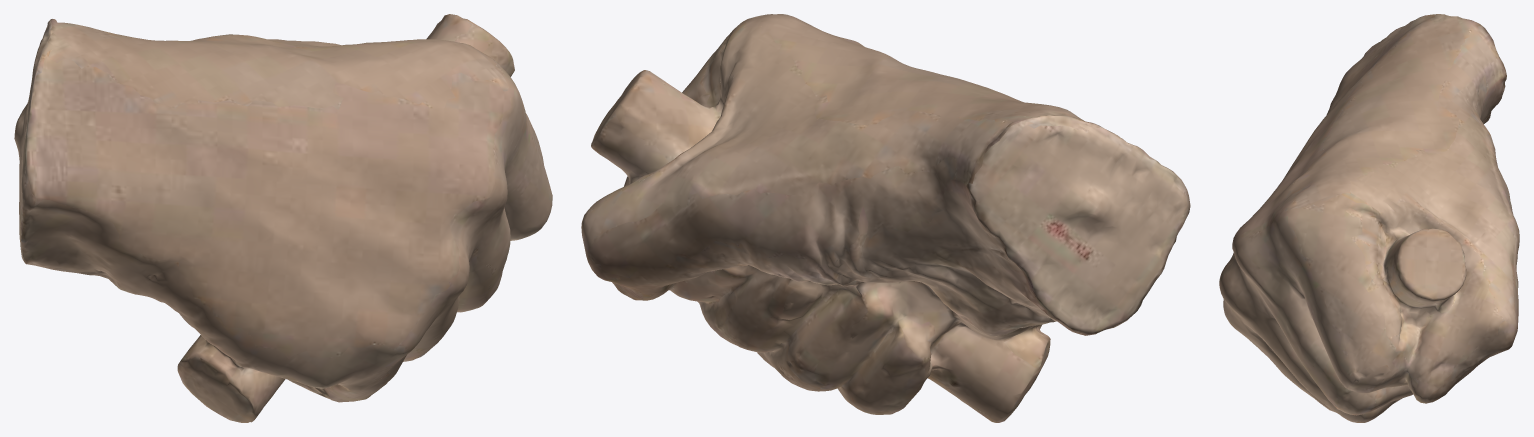
Rendered from npg_71_6_right-hires_unwrapped-20k-512-thumb.glb.
The picture shows the model from 3 angles, left to right: view 1: azimuth 30°, elevation 25°; view 2: azimuth 150°, elevation 25°; view 3: azimuth 270°, elevation 25°; orthographic projection. The views are drawn at different scales.
Size of the model in its own units: 169 by 115 by 103.
1 material, 1 textured.
